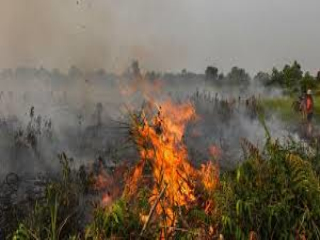fire: (125, 93, 224, 227)
smoke: (245, 115, 315, 161)
